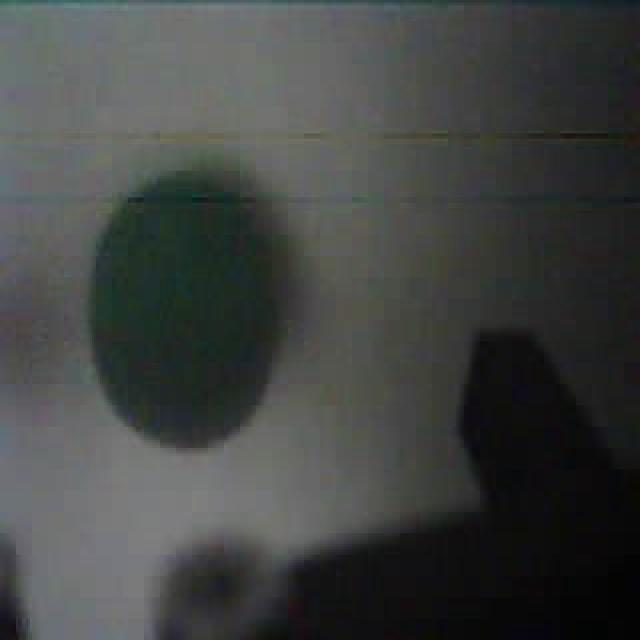green_ball: (86, 163, 290, 453)
